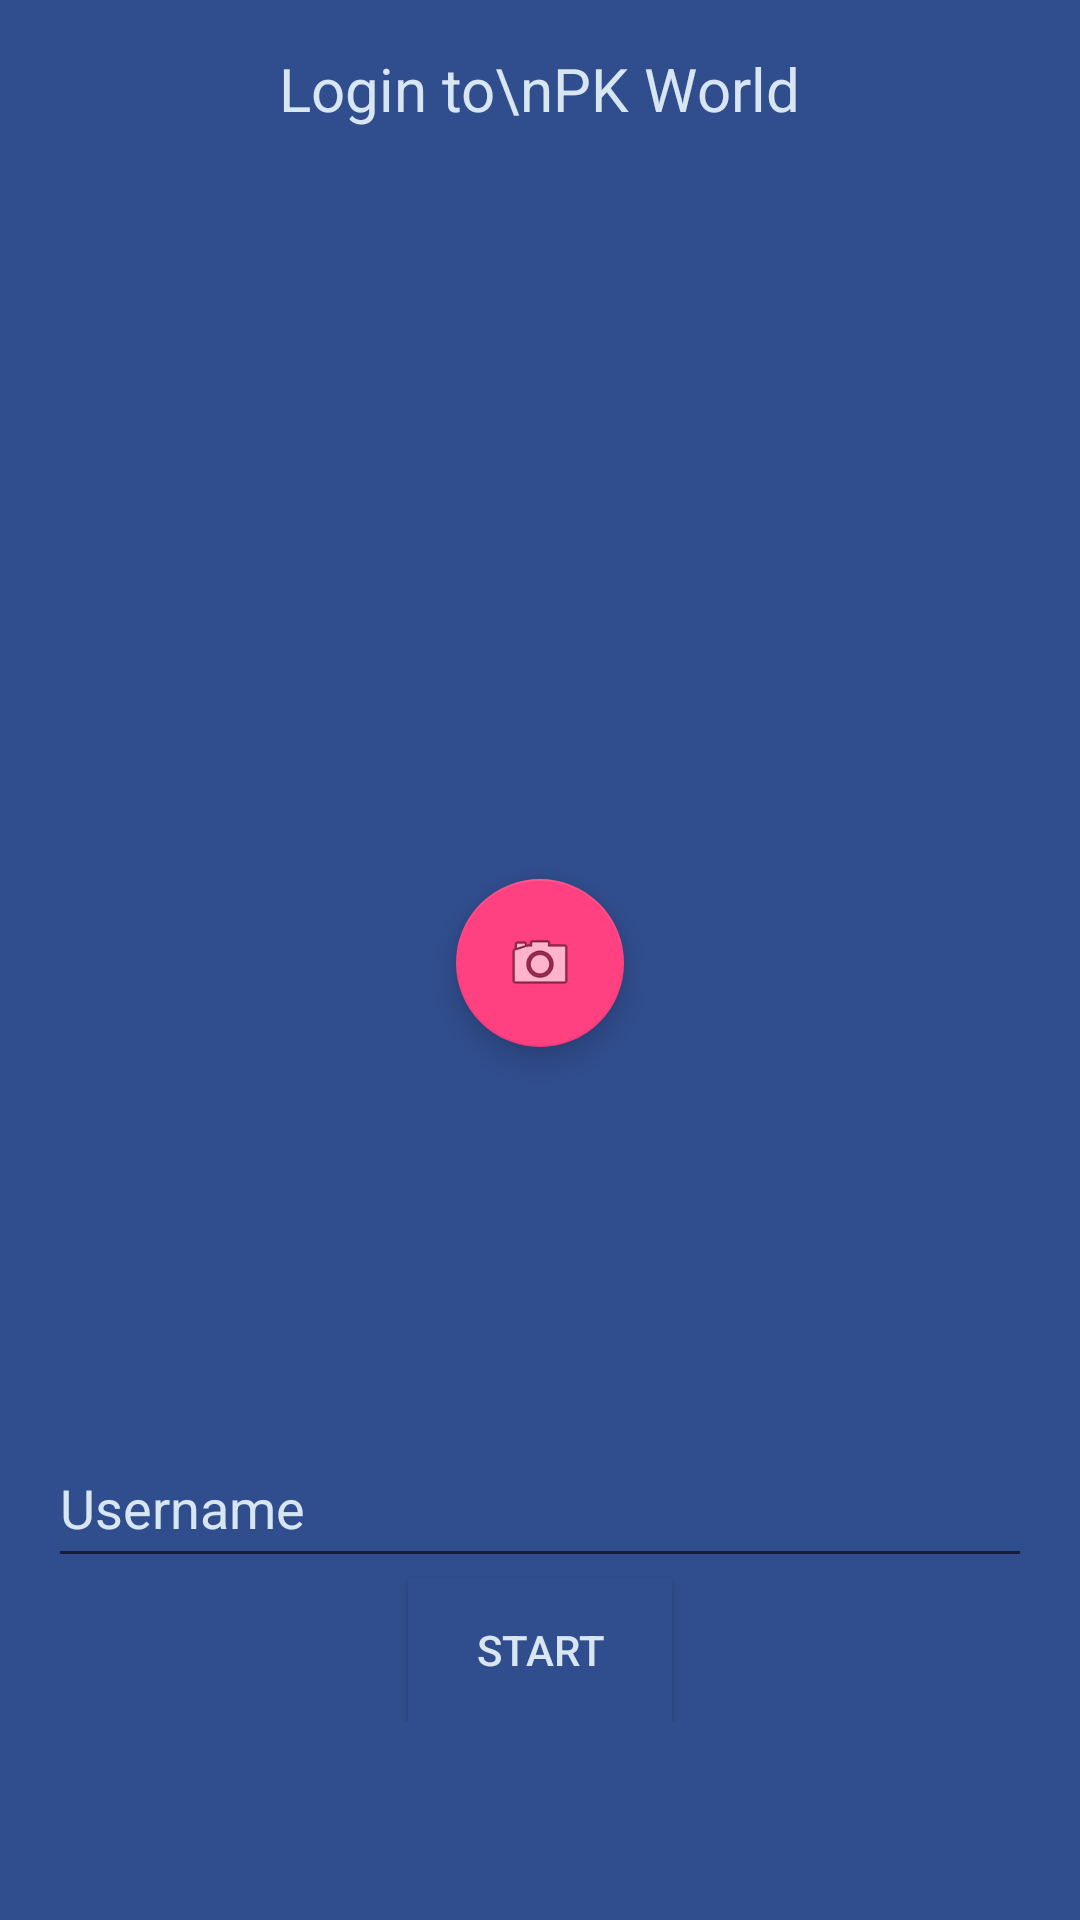

Icon click points for this 1080 × 1920 phone screenshot, format (x,y):
camera: (540,963)
